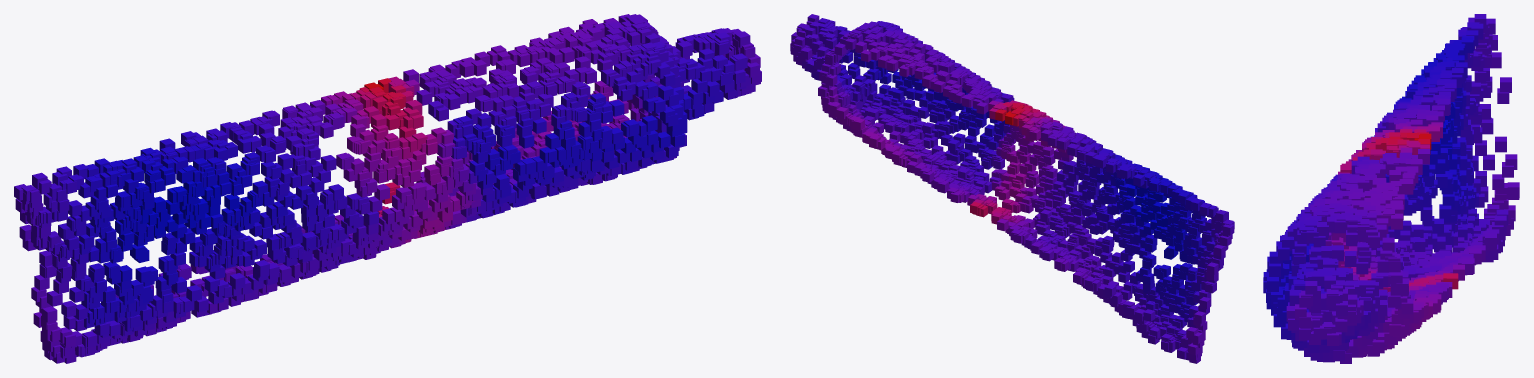
File: heatmap.glb
The picture shows the model from 3 angles, left to right: view 1: azimuth 30°, elevation 25°; view 2: azimuth 150°, elevation 25°; view 3: azimuth 270°, elevation 25°; orthographic projection. The views are drawn at different scales.
Visible parts, largest first — view 1: world; view 2: world; view 3: world.
Part boxes in pixels (x1=…): world: x1=14, y1=14, x2=761, y2=363; world: x1=790, y1=14, x2=1234, y2=363; world: x1=1263, y1=14, x2=1519, y2=363.
Size of the model in its own units: 0.1994 by 0.0779 by 0.0646.
